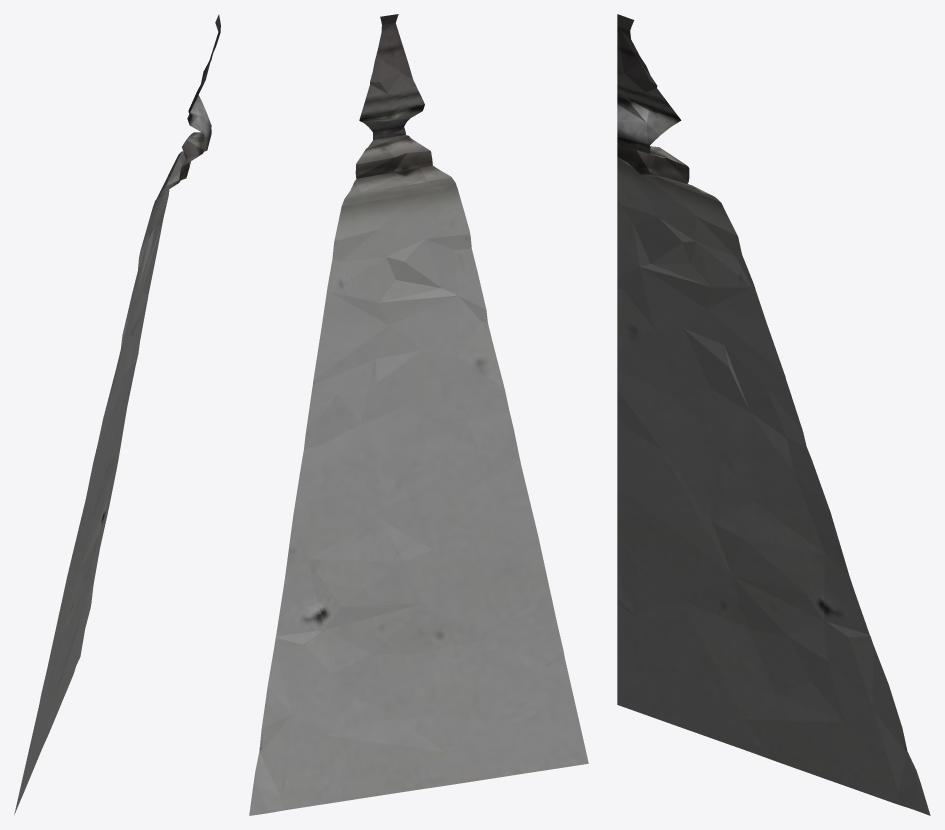
3 views of the same model, side by side, from view 1: azimuth 30°, elevation 25°; view 2: azimuth 150°, elevation 25°; view 3: azimuth 270°, elevation 25° (orthographic). The views are drawn at different scales.
Size of the model in its own units: 0.5014 by 1.67 by 0.5975.
Materials: 1 (1 with a texture image).
